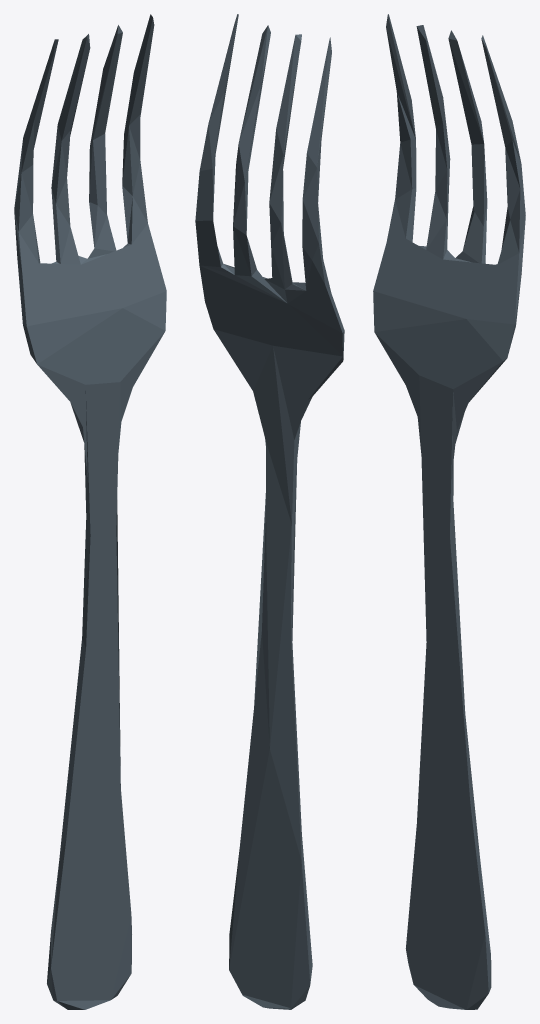
Rendered from ForkSmall.fbx.
3 renders of one model, left to right at view 1: azimuth 30°, elevation 25°; view 2: azimuth 150°, elevation 25°; view 3: azimuth 330°, elevation 25°, orthographic. The views are drawn at different scales.
Visible parts, largest first — view 1: ForkSmallLowPoly; view 2: ForkSmallLowPoly; view 3: ForkSmallLowPoly.
Boxes of the visible parts, left/top/right/bottom form: ForkSmallLowPoly: left=14, top=14, right=166, bottom=1009; ForkSmallLowPoly: left=195, top=14, right=344, bottom=1009; ForkSmallLowPoly: left=373, top=14, right=525, bottom=1009.
Size of the model in its own units: 1.78 by 11.93 by 0.6386.
